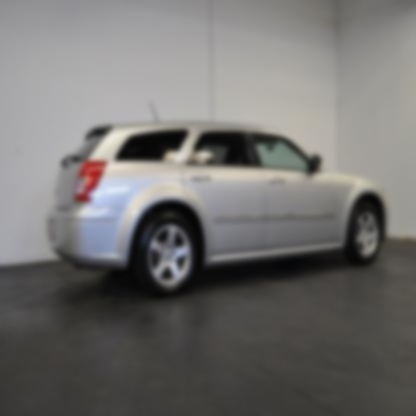Vehicle: (45, 99, 391, 301)
